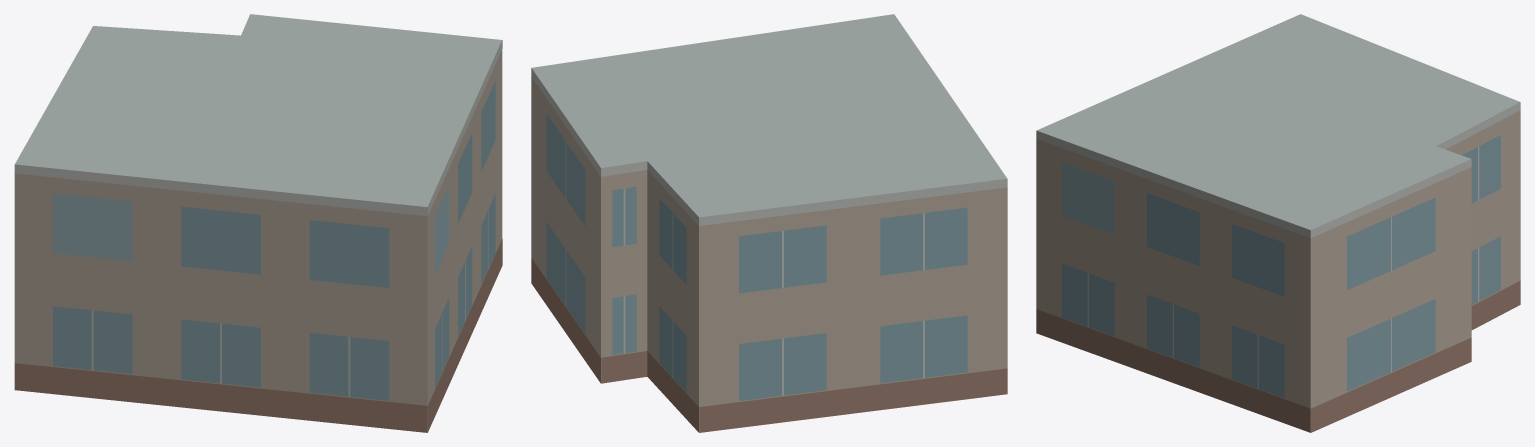
The model's file is survey-upis-32506044.glb.
3 views of the same model, side by side, from view 1: azimuth 30°, elevation 25°; view 2: azimuth 150°, elevation 25°; view 3: azimuth 270°, elevation 25° (orthographic). The views are drawn at different scales.
Visible parts, largest first — view 1: survey-upis-32506044.tmp; view 2: survey-upis-32506044.tmp; view 3: survey-upis-32506044.tmp.
Boxes of the visible parts, bbox=[...] form: survey-upis-32506044.tmp: bbox=[14, 14, 502, 432]; survey-upis-32506044.tmp: bbox=[531, 14, 1007, 432]; survey-upis-32506044.tmp: bbox=[1036, 14, 1520, 432].
Bounding box in the file's own units: 13.96 × 6.1 × 13.21.
